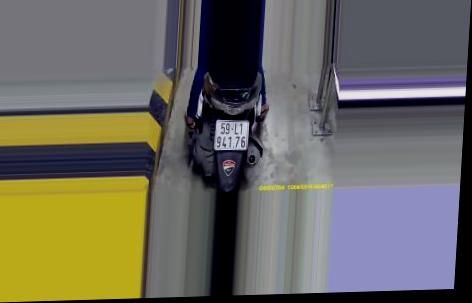License_Plate: (210, 115, 252, 155)
